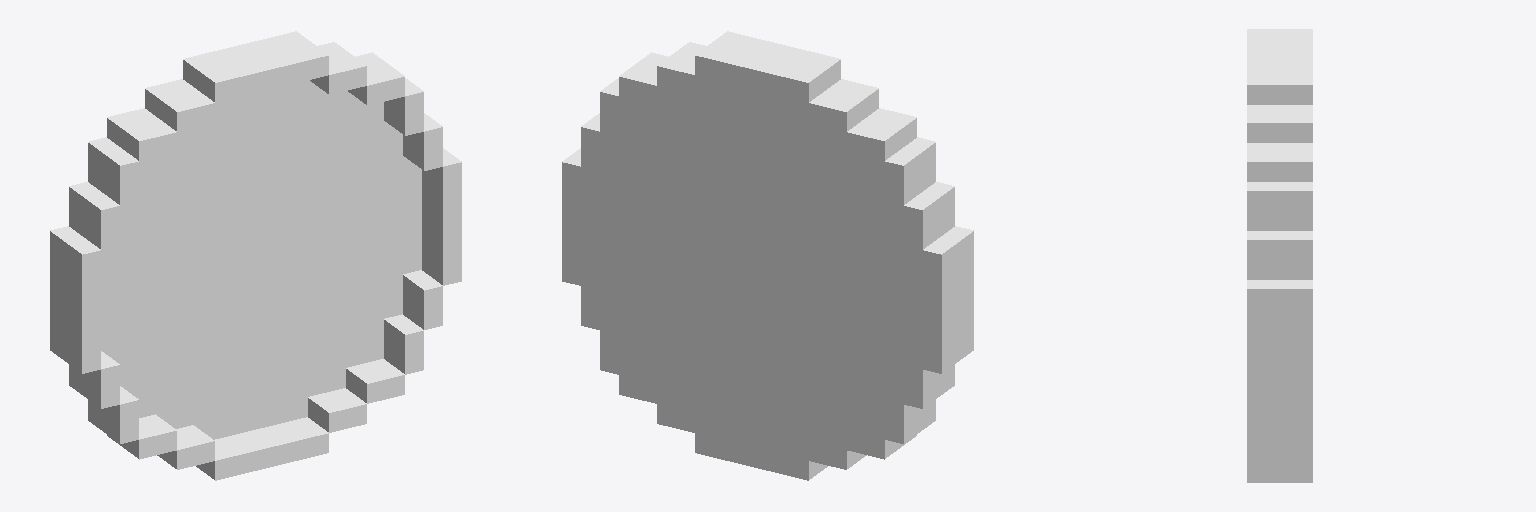
File: PriceOverlay.obj
3 views of the same model, side by side, from view 1: azimuth 30°, elevation 25°; view 2: azimuth 150°, elevation 25°; view 3: azimuth 270°, elevation 25° (orthographic).
Visible parts, largest first — view 1: object 1; view 2: object 1; view 3: object 1.
Boxes of the visible parts, x1=… form: object 1: x1=50, y1=31, x2=461, y2=480; object 1: x1=562, y1=31, x2=973, y2=480; object 1: x1=1247, y1=29, x2=1312, y2=482.
Size of the model in its own units: 2 by 2 by 0.3.